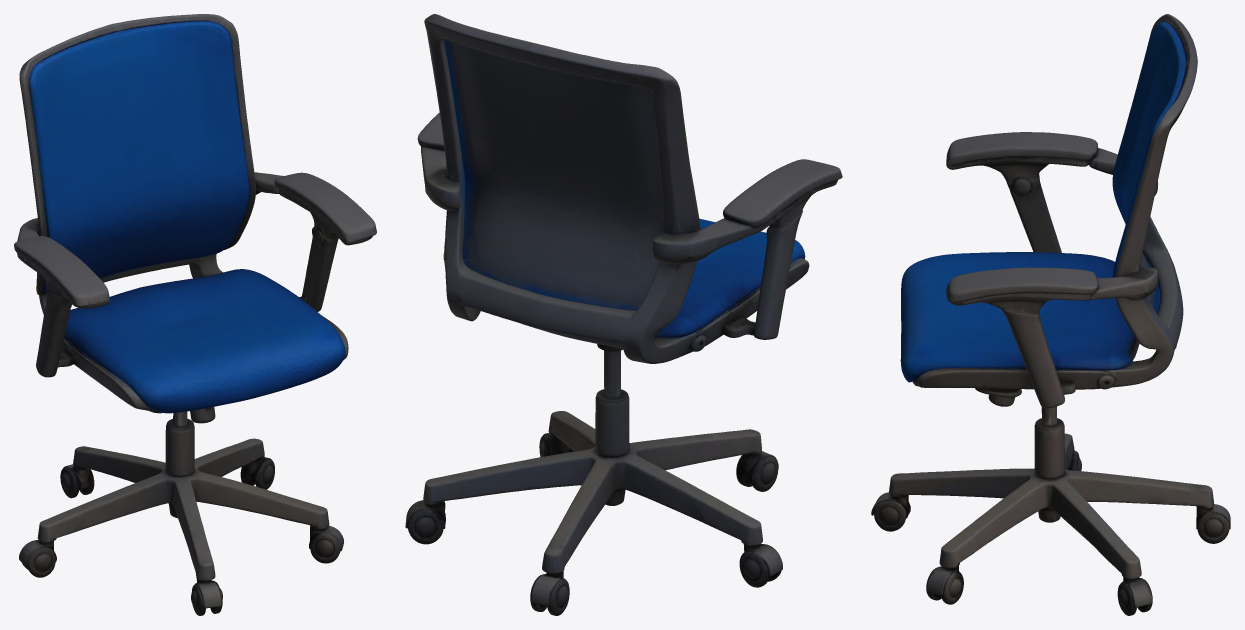
File: chair.glb
The picture shows the model from 3 angles, left to right: view 1: azimuth 30°, elevation 25°; view 2: azimuth 150°, elevation 25°; view 3: azimuth 270°, elevation 25°; orthographic projection. The views are drawn at different scales.
Visible parts, largest first — view 1: aiprintgen_node_7f09a752-1a62-417d-a8bf-26bffa10f62f; view 2: aiprintgen_node_7f09a752-1a62-417d-a8bf-26bffa10f62f; view 3: aiprintgen_node_7f09a752-1a62-417d-a8bf-26bffa10f62f.
Boxes of the visible parts, box(x1,y1,x2,y2) form: aiprintgen_node_7f09a752-1a62-417d-a8bf-26bffa10f62f: box(14, 14, 376, 615); aiprintgen_node_7f09a752-1a62-417d-a8bf-26bffa10f62f: box(405, 14, 842, 615); aiprintgen_node_7f09a752-1a62-417d-a8bf-26bffa10f62f: box(871, 14, 1230, 615).
Bounding box in the file's own units: 0.6704 × 0.9999 × 0.6566.
Materials: 1 (1 with a texture image).
